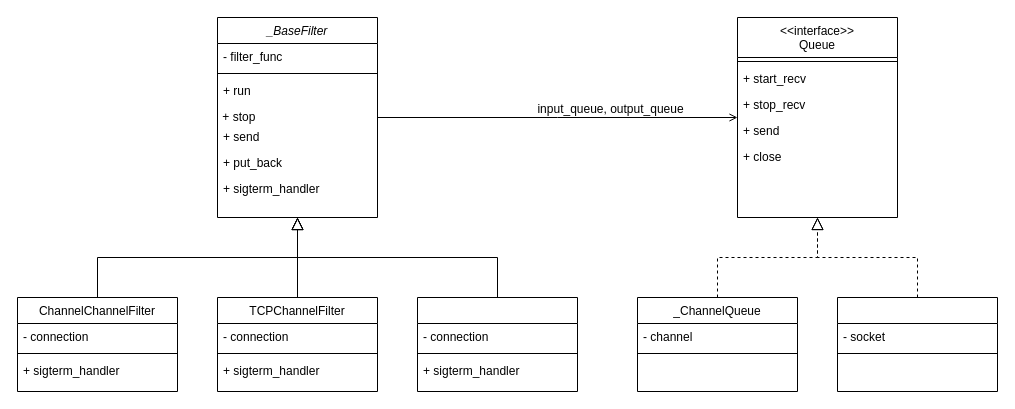
Some shapes in this 1015 by 409 pixel diagram are drawn without their labels. Here are the shapes that lost their labels. From the top down, the box of each, then its label:
(416, 296, 578, 392): ChannelTCPFilter
(836, 296, 998, 392): _TCPQueue
